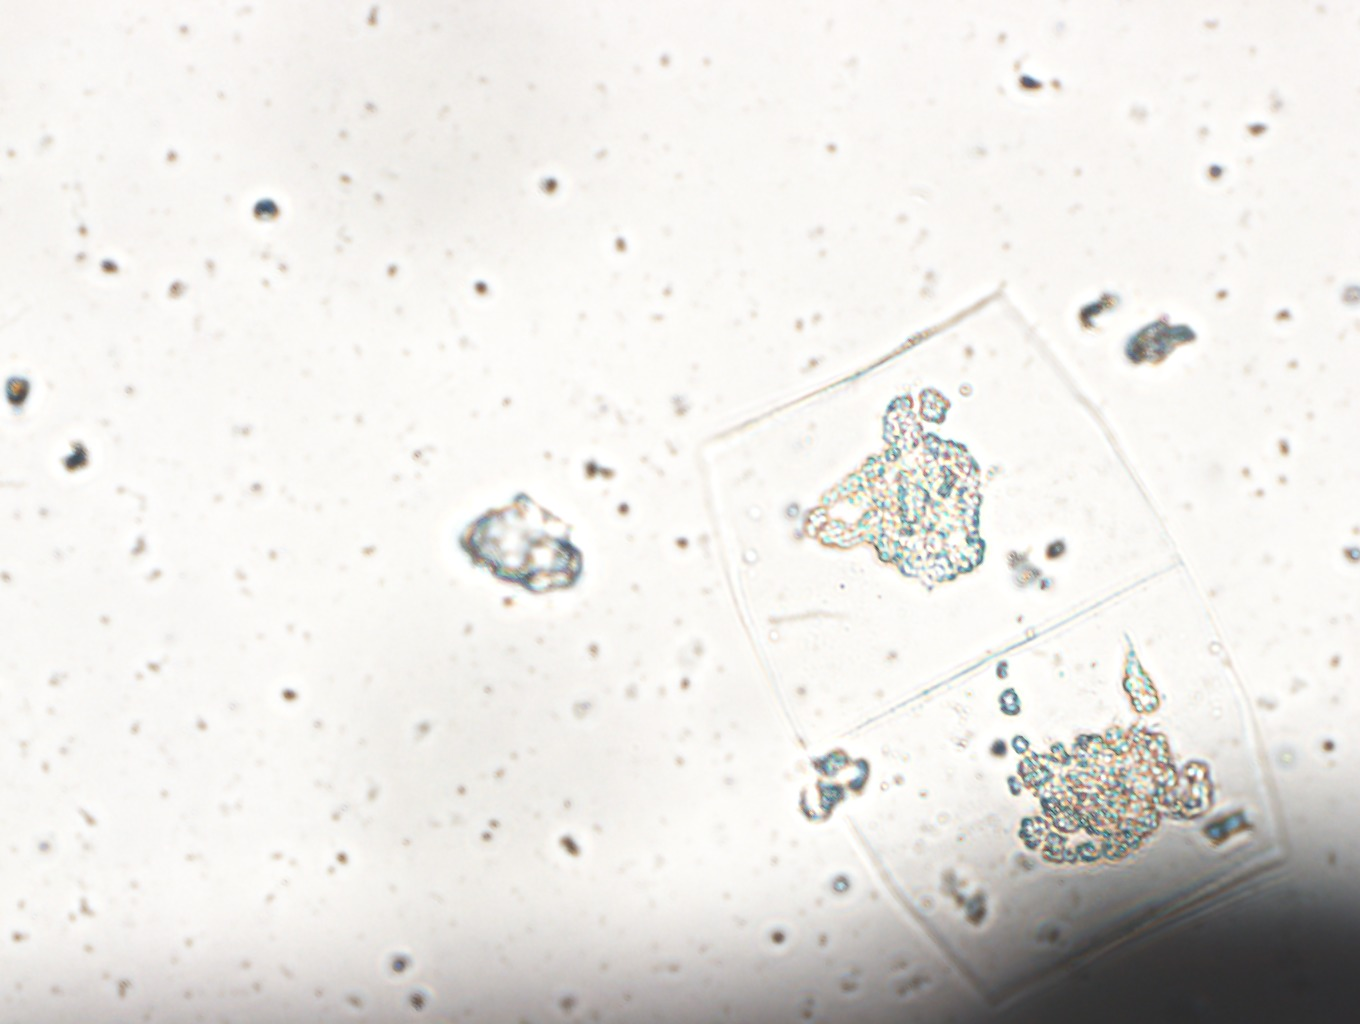helicotheca: (699, 291, 1294, 1009)
